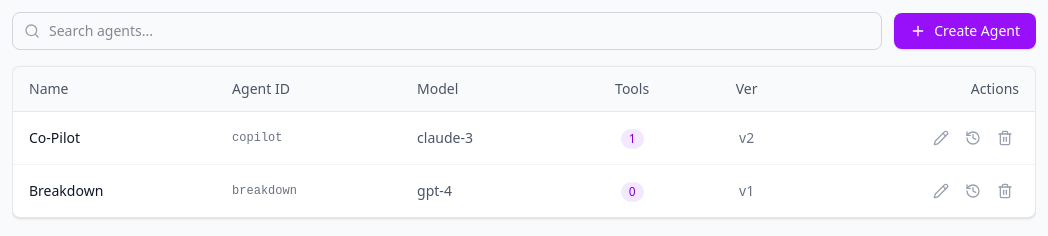
Test: AgentList › search filters agents by name
Type "co-pilot" into the field with placeholder "Search agents..." at {"x": 447, "y": 31}, box left=12, top=12, right=882, bottom=50
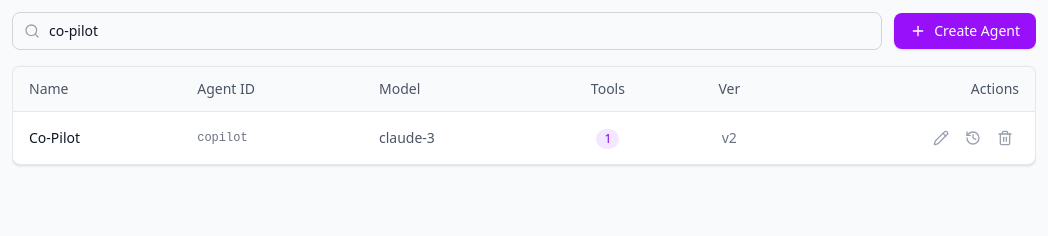
Check: the text "Co-Pilot" is shown, box left=13, top=112, right=181, bottom=164
Check: the text "Breakdown" is gone
